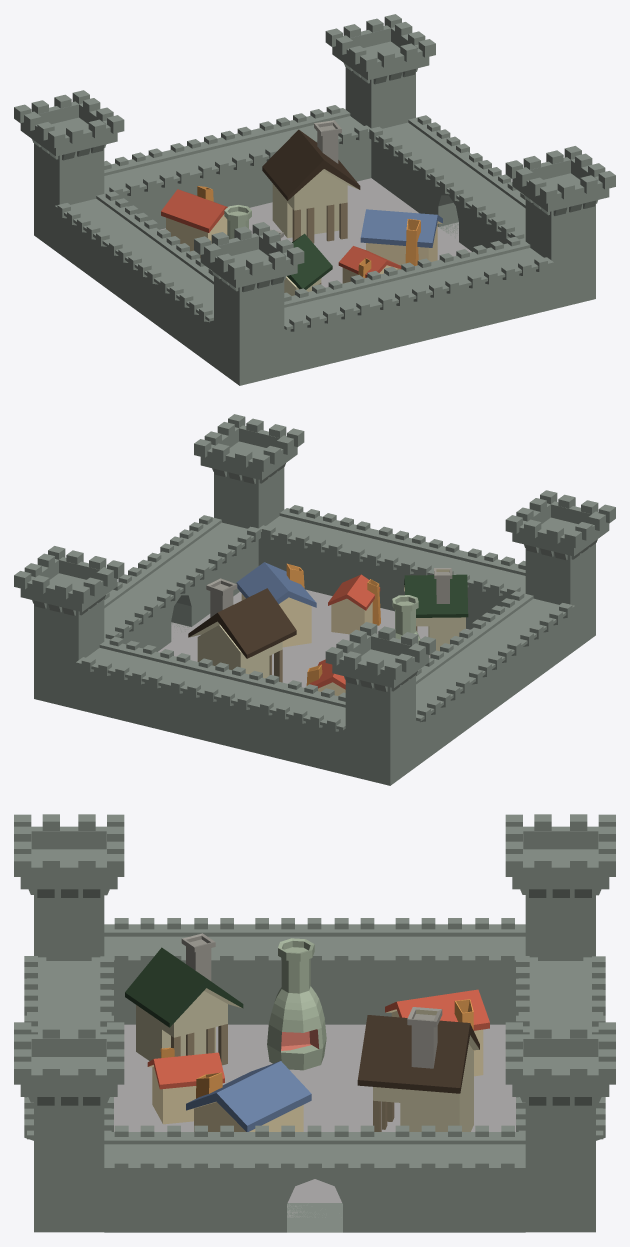
Rendered from Village.fbx.
The picture shows the model from 3 angles, top to bottom: view 1: azimuth 30°, elevation 25°; view 2: azimuth 150°, elevation 25°; view 3: azimuth 270°, elevation 25°; orthographic projection. The views are drawn at different scales.
Parts seen in each view (by area): view 1: Muralha, Casa1, Chao, Casa3, Casa2, Casa4, Casa5, Fornalha; view 2: Muralha, Casa1, Chao, Casa4, Casa3, Casa5, Fornalha, Casa2; view 3: Muralha, Chao, Casa1, Casa4, Casa3, Fornalha, Casa5, Casa2.
Part boxes in pixels (left/top/right/bottom): Muralha: left=14, top=14, right=615, bottom=385; Casa1: left=262, top=120, right=360, bottom=243; Chao: left=160, top=178, right=471, bottom=287; Casa3: left=360, top=209, right=442, bottom=269; Casa2: left=161, top=186, right=227, bottom=258; Casa4: left=270, top=229, right=332, bottom=295; Casa5: left=338, top=246, right=401, bottom=283; Fornalha: left=224, top=205, right=251, bottom=239; Muralha: left=14, top=414, right=615, bottom=785; Casa1: left=188, top=578, right=296, bottom=682; Chao: left=158, top=589, right=470, bottom=687; Casa4: left=404, top=568, right=468, bottom=655; Casa3: left=236, top=562, right=316, bottom=647; Casa5: left=328, top=574, right=380, bottom=634; Fornalha: left=392, top=595, right=420, bottom=643; Casa2: left=306, top=659, right=345, bottom=695; Muralha: left=14, top=814, right=615, bottom=1232; Chao: left=114, top=1024, right=515, bottom=1217; Casa1: left=357, top=1007, right=479, bottom=1131; Casa4: left=125, top=933, right=243, bottom=1065; Casa3: left=186, top=1061, right=311, bottom=1131; Fornalha: left=267, top=938, right=326, bottom=1070; Casa5: left=147, top=1047, right=224, bottom=1124; Casa2: left=385, top=989, right=489, bottom=1076.
Bounding box in the file's own units: 1715 × 555 × 1714.
